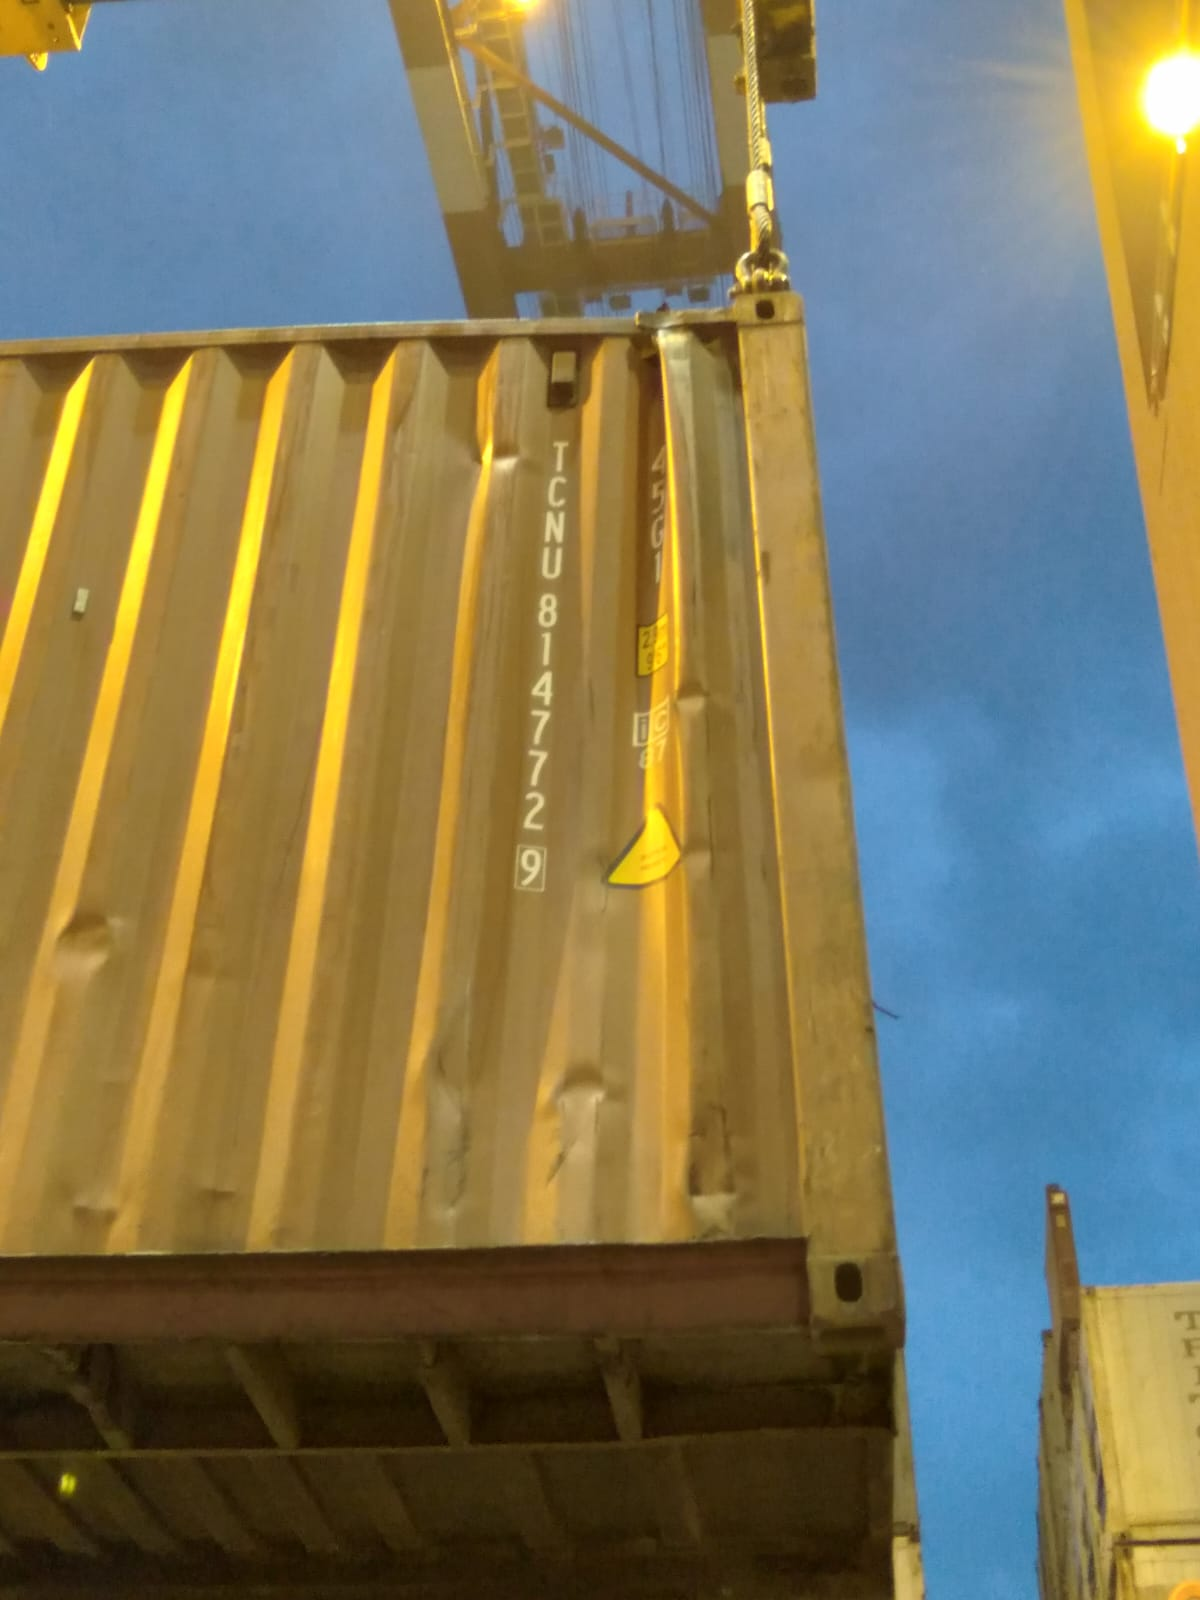bulged: (516, 328, 808, 779)
dented: (420, 997, 774, 1228), (52, 1149, 308, 1235), (40, 857, 155, 1043), (437, 388, 542, 510)
